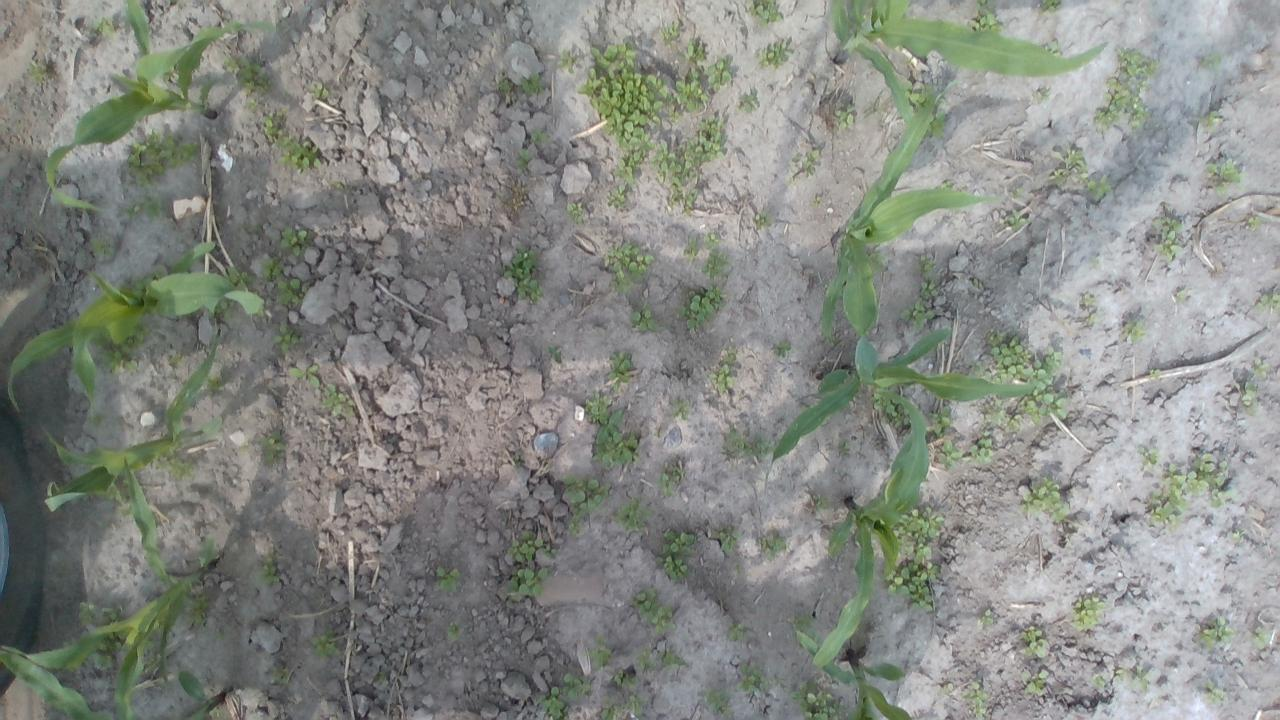Maize: (0, 458, 220, 720), (820, 78, 998, 384), (40, 0, 278, 214), (7, 234, 269, 412), (766, 324, 1034, 482), (831, 0, 1109, 136), (36, 330, 225, 522), (811, 388, 930, 670), (0, 646, 230, 720), (792, 630, 912, 720)
Weeds: (575, 40, 673, 154), (1148, 452, 1228, 528), (124, 128, 198, 187), (1017, 346, 1070, 425), (671, 55, 733, 114), (969, 328, 1034, 384), (84, 322, 151, 376), (649, 142, 700, 208), (886, 506, 946, 562), (602, 239, 657, 297), (558, 474, 608, 537), (1096, 76, 1151, 131), (882, 560, 940, 612), (591, 408, 639, 470), (497, 242, 543, 306), (674, 286, 726, 332), (654, 528, 696, 584), (1021, 476, 1069, 522), (789, 677, 840, 720), (685, 114, 725, 168), (630, 586, 674, 634), (222, 54, 274, 94), (272, 134, 322, 172), (1068, 592, 1112, 632), (1150, 214, 1186, 262), (147, 450, 195, 485), (508, 564, 554, 599), (90, 628, 130, 668), (1114, 46, 1161, 80), (871, 390, 912, 428), (1204, 157, 1244, 195), (612, 496, 654, 532), (701, 232, 731, 282), (316, 380, 355, 418), (612, 148, 647, 187), (75, 600, 122, 628), (898, 78, 934, 114), (984, 397, 1020, 433), (1048, 148, 1086, 182), (100, 481, 133, 520), (255, 429, 288, 467), (115, 194, 167, 218), (726, 430, 772, 457), (605, 351, 636, 391), (1196, 614, 1232, 648), (898, 298, 938, 328), (600, 694, 646, 720), (535, 687, 570, 720), (276, 224, 312, 256), (506, 531, 543, 562), (628, 301, 660, 336), (734, 660, 769, 692), (702, 686, 734, 720), (744, 0, 784, 27), (1020, 624, 1050, 659), (704, 363, 737, 394), (309, 628, 343, 658), (276, 275, 308, 306), (963, 681, 990, 717), (180, 592, 210, 624), (756, 40, 790, 68), (582, 390, 610, 424), (924, 405, 952, 438), (286, 362, 321, 388), (968, 430, 994, 465), (270, 323, 300, 353), (966, 9, 1002, 34), (432, 564, 462, 594), (561, 672, 593, 700), (934, 438, 962, 470), (655, 464, 682, 496), (252, 555, 280, 585), (257, 253, 285, 282), (1021, 668, 1050, 696), (758, 533, 788, 560), (518, 70, 546, 98), (224, 263, 253, 290), (831, 101, 857, 131), (205, 298, 238, 321), (922, 111, 948, 140), (588, 639, 614, 668), (260, 110, 285, 138), (795, 614, 820, 642), (86, 236, 116, 258), (1122, 318, 1148, 343), (88, 14, 115, 38), (799, 148, 820, 178), (1128, 664, 1152, 690), (681, 38, 706, 62), (916, 274, 940, 299), (1084, 173, 1112, 194), (604, 185, 627, 210), (718, 525, 738, 553), (657, 22, 680, 46), (681, 236, 702, 262), (1240, 380, 1259, 408), (864, 251, 888, 273), (660, 648, 686, 668), (1254, 291, 1280, 311), (1138, 446, 1160, 469), (203, 376, 225, 398), (737, 93, 760, 114), (564, 201, 584, 225), (638, 646, 658, 670), (512, 147, 530, 173), (268, 667, 290, 688), (1203, 682, 1224, 704), (140, 632, 162, 652), (1004, 211, 1026, 231), (670, 397, 689, 420), (614, 671, 638, 689), (1042, 38, 1064, 57), (1199, 109, 1221, 128), (1036, 0, 1062, 16), (916, 252, 936, 272), (1199, 52, 1223, 68), (140, 654, 160, 673), (727, 622, 746, 642), (556, 50, 574, 71), (718, 343, 736, 364), (26, 61, 45, 80), (1090, 672, 1110, 690), (495, 77, 514, 95), (772, 337, 792, 354), (308, 82, 328, 98), (1252, 360, 1269, 378), (169, 352, 188, 368), (753, 209, 770, 226), (978, 608, 994, 626), (530, 127, 545, 146), (446, 622, 460, 641), (372, 670, 387, 686), (1078, 292, 1094, 307), (1035, 86, 1051, 101), (812, 496, 829, 510), (541, 544, 560, 556), (1247, 216, 1261, 232), (1254, 630, 1270, 644), (546, 342, 560, 356), (1012, 186, 1026, 199), (934, 93, 946, 108), (938, 181, 954, 192), (975, 0, 992, 10), (1148, 368, 1162, 380), (1174, 290, 1186, 302), (244, 98, 256, 108), (837, 440, 849, 450)
